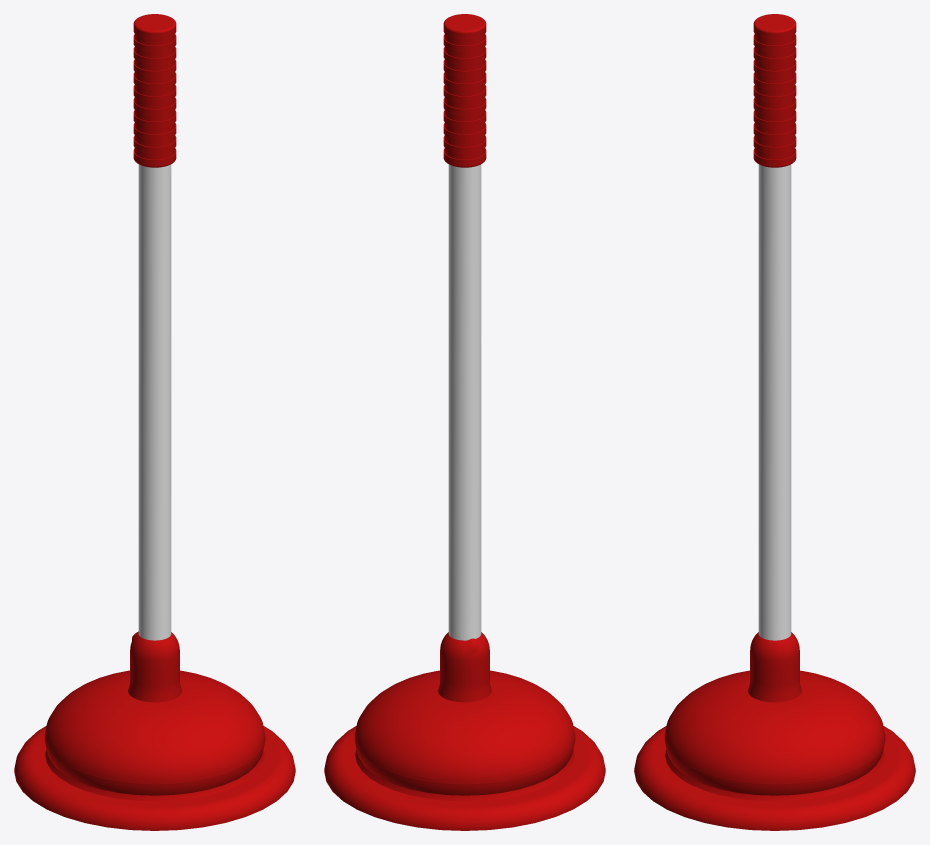
File: 马桶塞子.fbx
3 views of the same model, side by side, from view 1: azimuth 30°, elevation 25°; view 2: azimuth 150°, elevation 25°; view 3: azimuth 270°, elevation 25° (orthographic).
Parts seen in each view (by area): view 1: 胶囊, 圆柱_2; view 2: 胶囊, 圆柱_2; view 3: 胶囊, 圆柱_2.
Boxes of the visible parts, <box> form: 胶囊: <box>14,631,295,830</box>; 圆柱_2: <box>133,14,176,640</box>; 胶囊: <box>324,632,605,830</box>; 圆柱_2: <box>443,14,486,640</box>; 胶囊: <box>634,632,915,830</box>; 圆柱_2: <box>753,14,796,640</box>.
Bounding box in the file's own units: 103 × 302 × 103.
